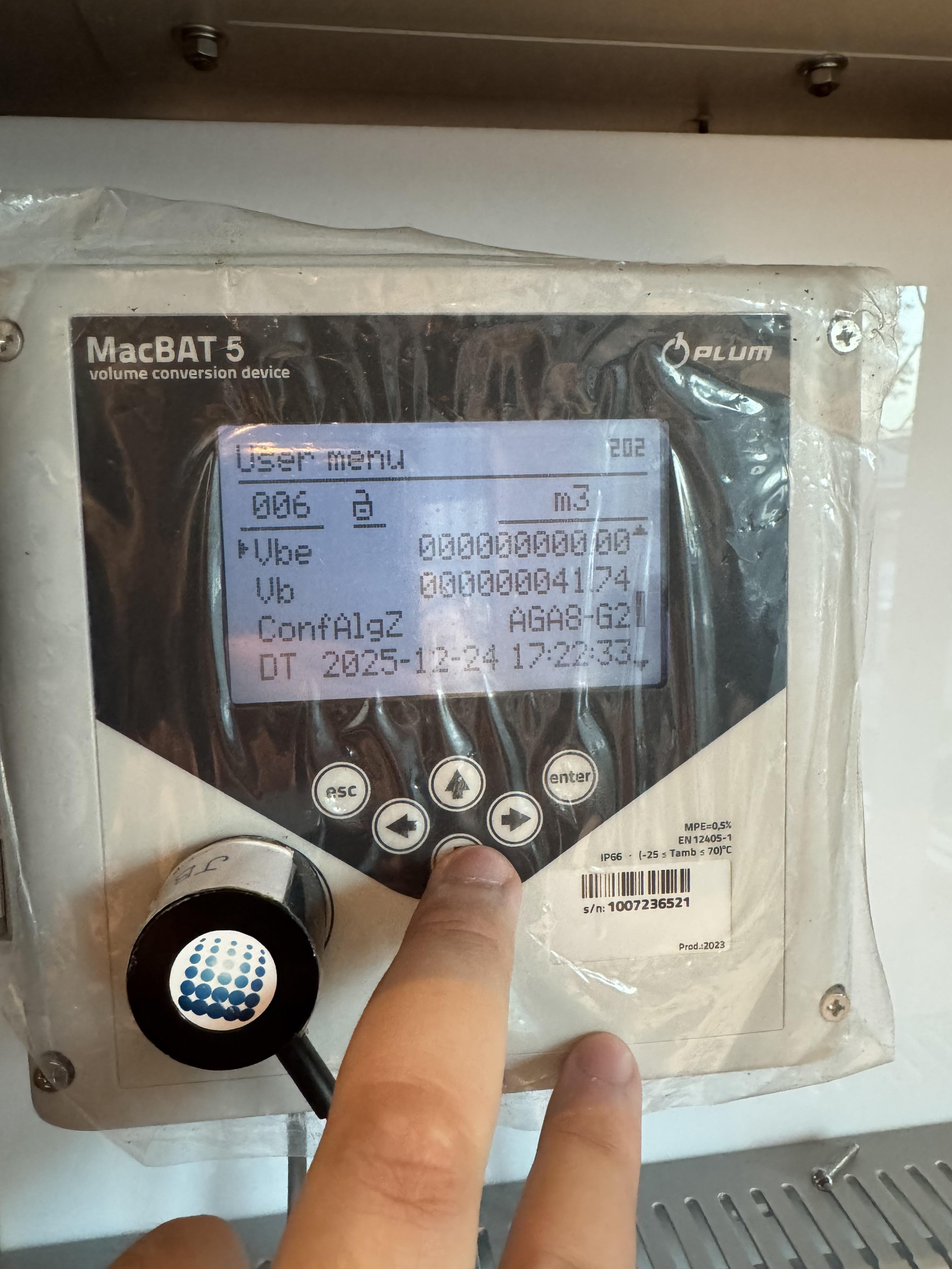digital_screen: (218, 421, 671, 704)
